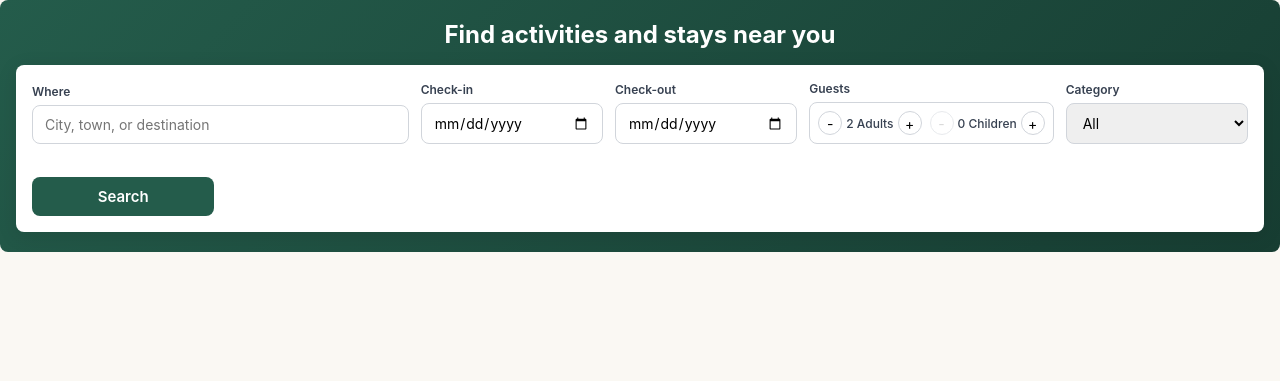
Test case: SearchHero - Compact Layout › shows suggestions when location input is focused
Focus the field labelled "Where" at [220, 124], box [32,105,409,144]
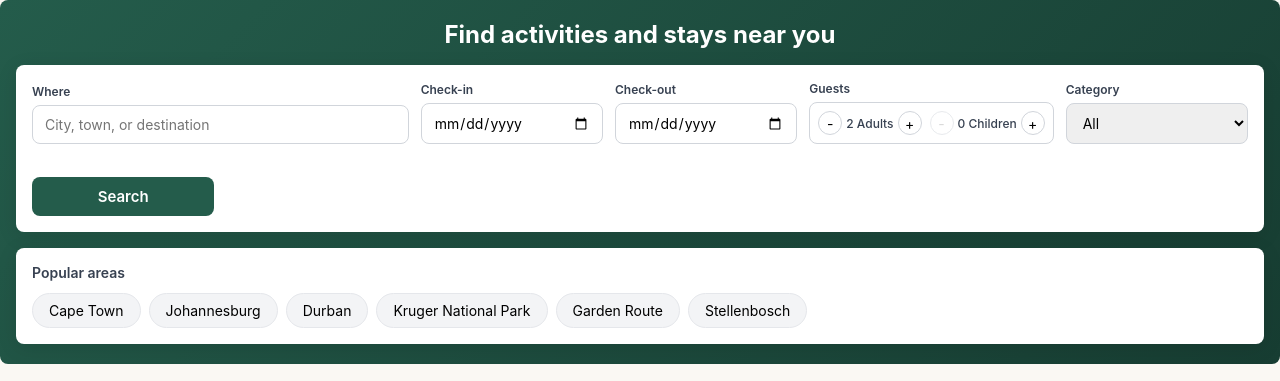
Now the heading "Popular areas" is shown, box [32,264,125,281]
Now the button "Cape Town" is shown, box [32,293,141,328]
Now the button "Johannesburg" is shown, box [149,293,278,328]
